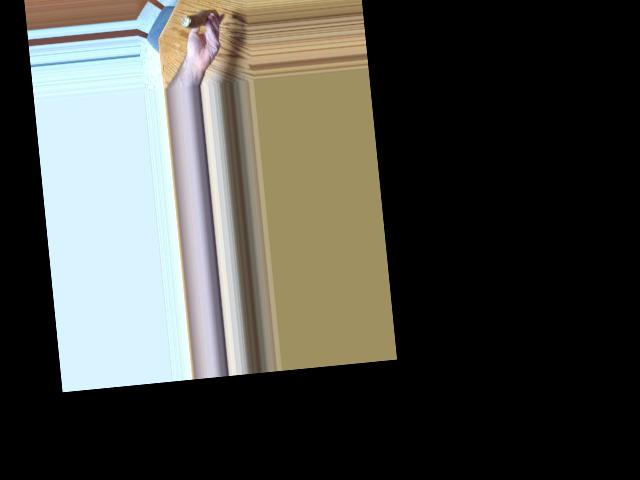sweet_potato: (184, 7, 219, 23)
